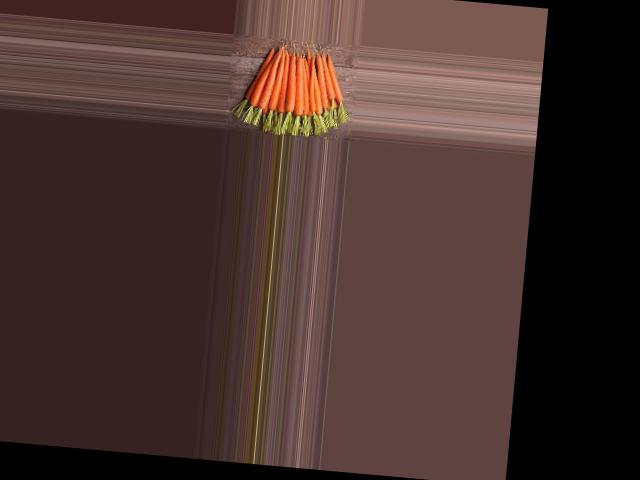carrot: (333, 56, 346, 105)
